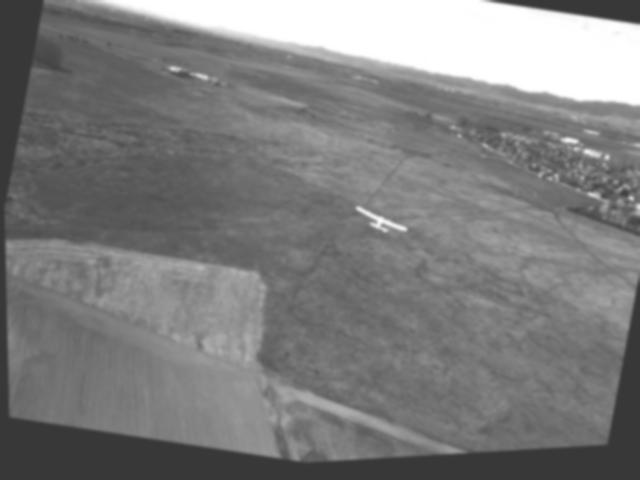hedef: (342, 203, 410, 253)
